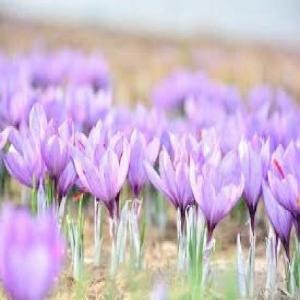Saffron: (67, 140, 131, 212), (146, 148, 206, 219), (188, 166, 244, 240), (232, 134, 272, 220), (268, 138, 300, 234)
